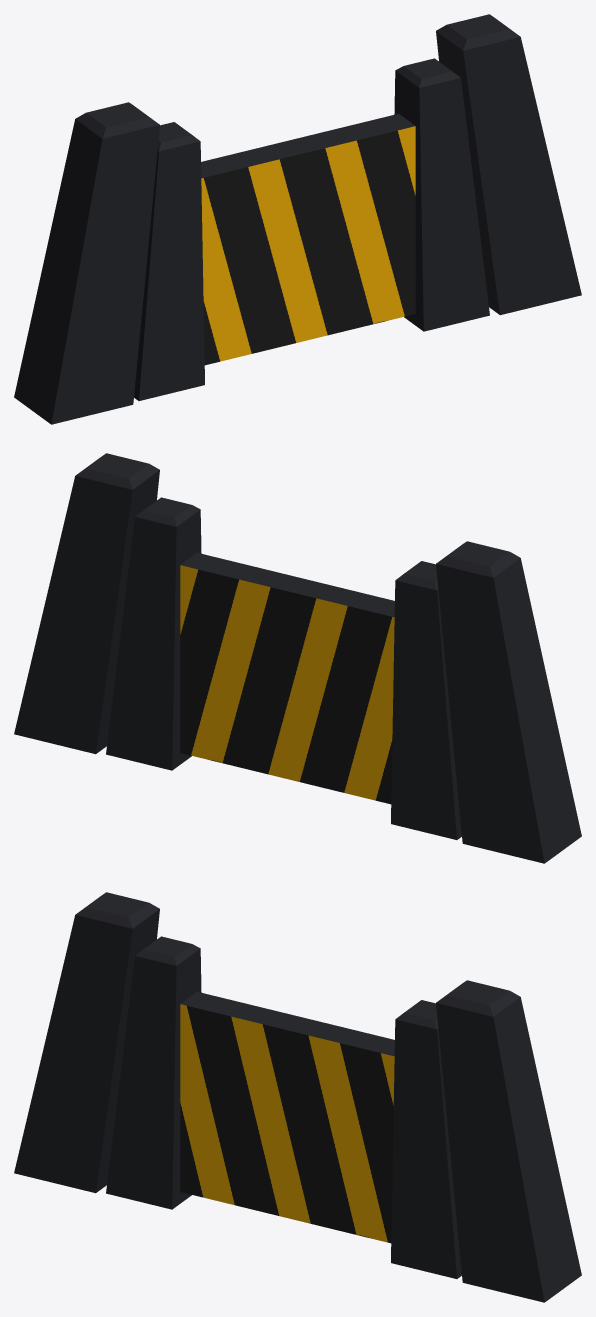
The model's file is Barricade.fbx.
The picture shows the model from 3 angles, top to bottom: view 1: azimuth 30°, elevation 25°; view 2: azimuth 150°, elevation 25°; view 3: azimuth 330°, elevation 25°; orthographic projection.
Parts seen in each view (by area): view 1: Barricade; view 2: Barricade; view 3: Barricade.
Boxes of the visible parts, box(x1,y1,x2,y2) form: Barricade: box(14, 14, 581, 424); Barricade: box(14, 453, 581, 863); Barricade: box(14, 892, 581, 1302).
Size of the model in its own units: 578 by 287 by 70.59.
Materials: 1 (1 with a texture image).
